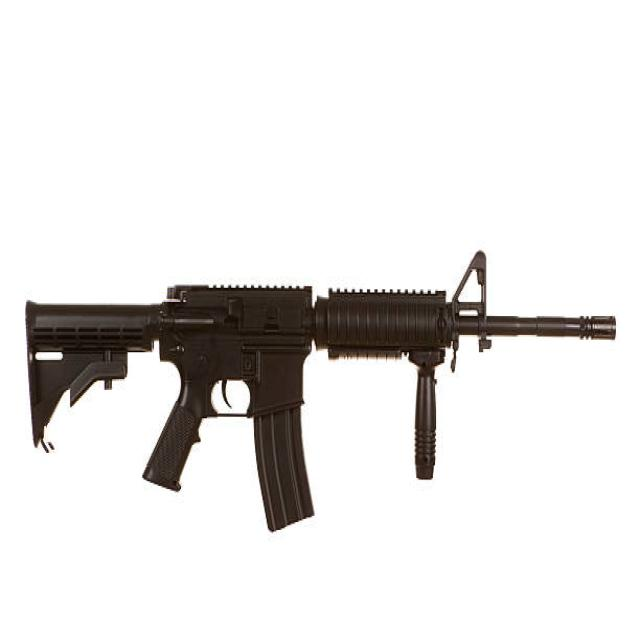rifle: (18, 241, 624, 546)
